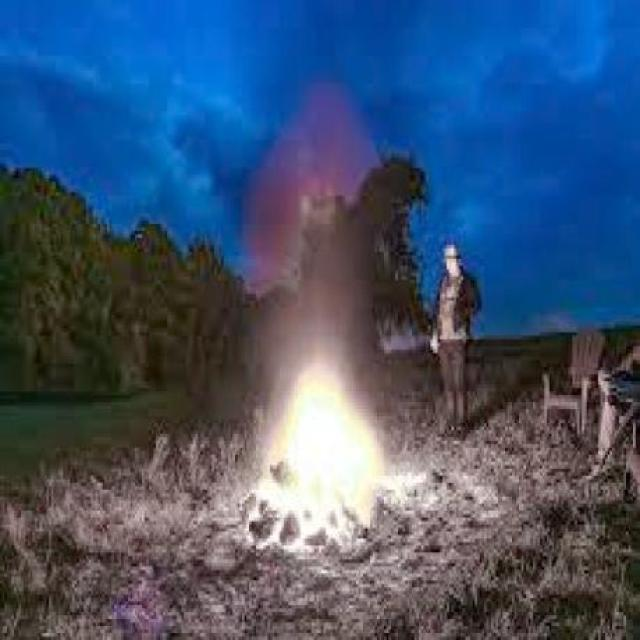Fire: (239, 336, 372, 528)
Smoke: (186, 80, 387, 328)
